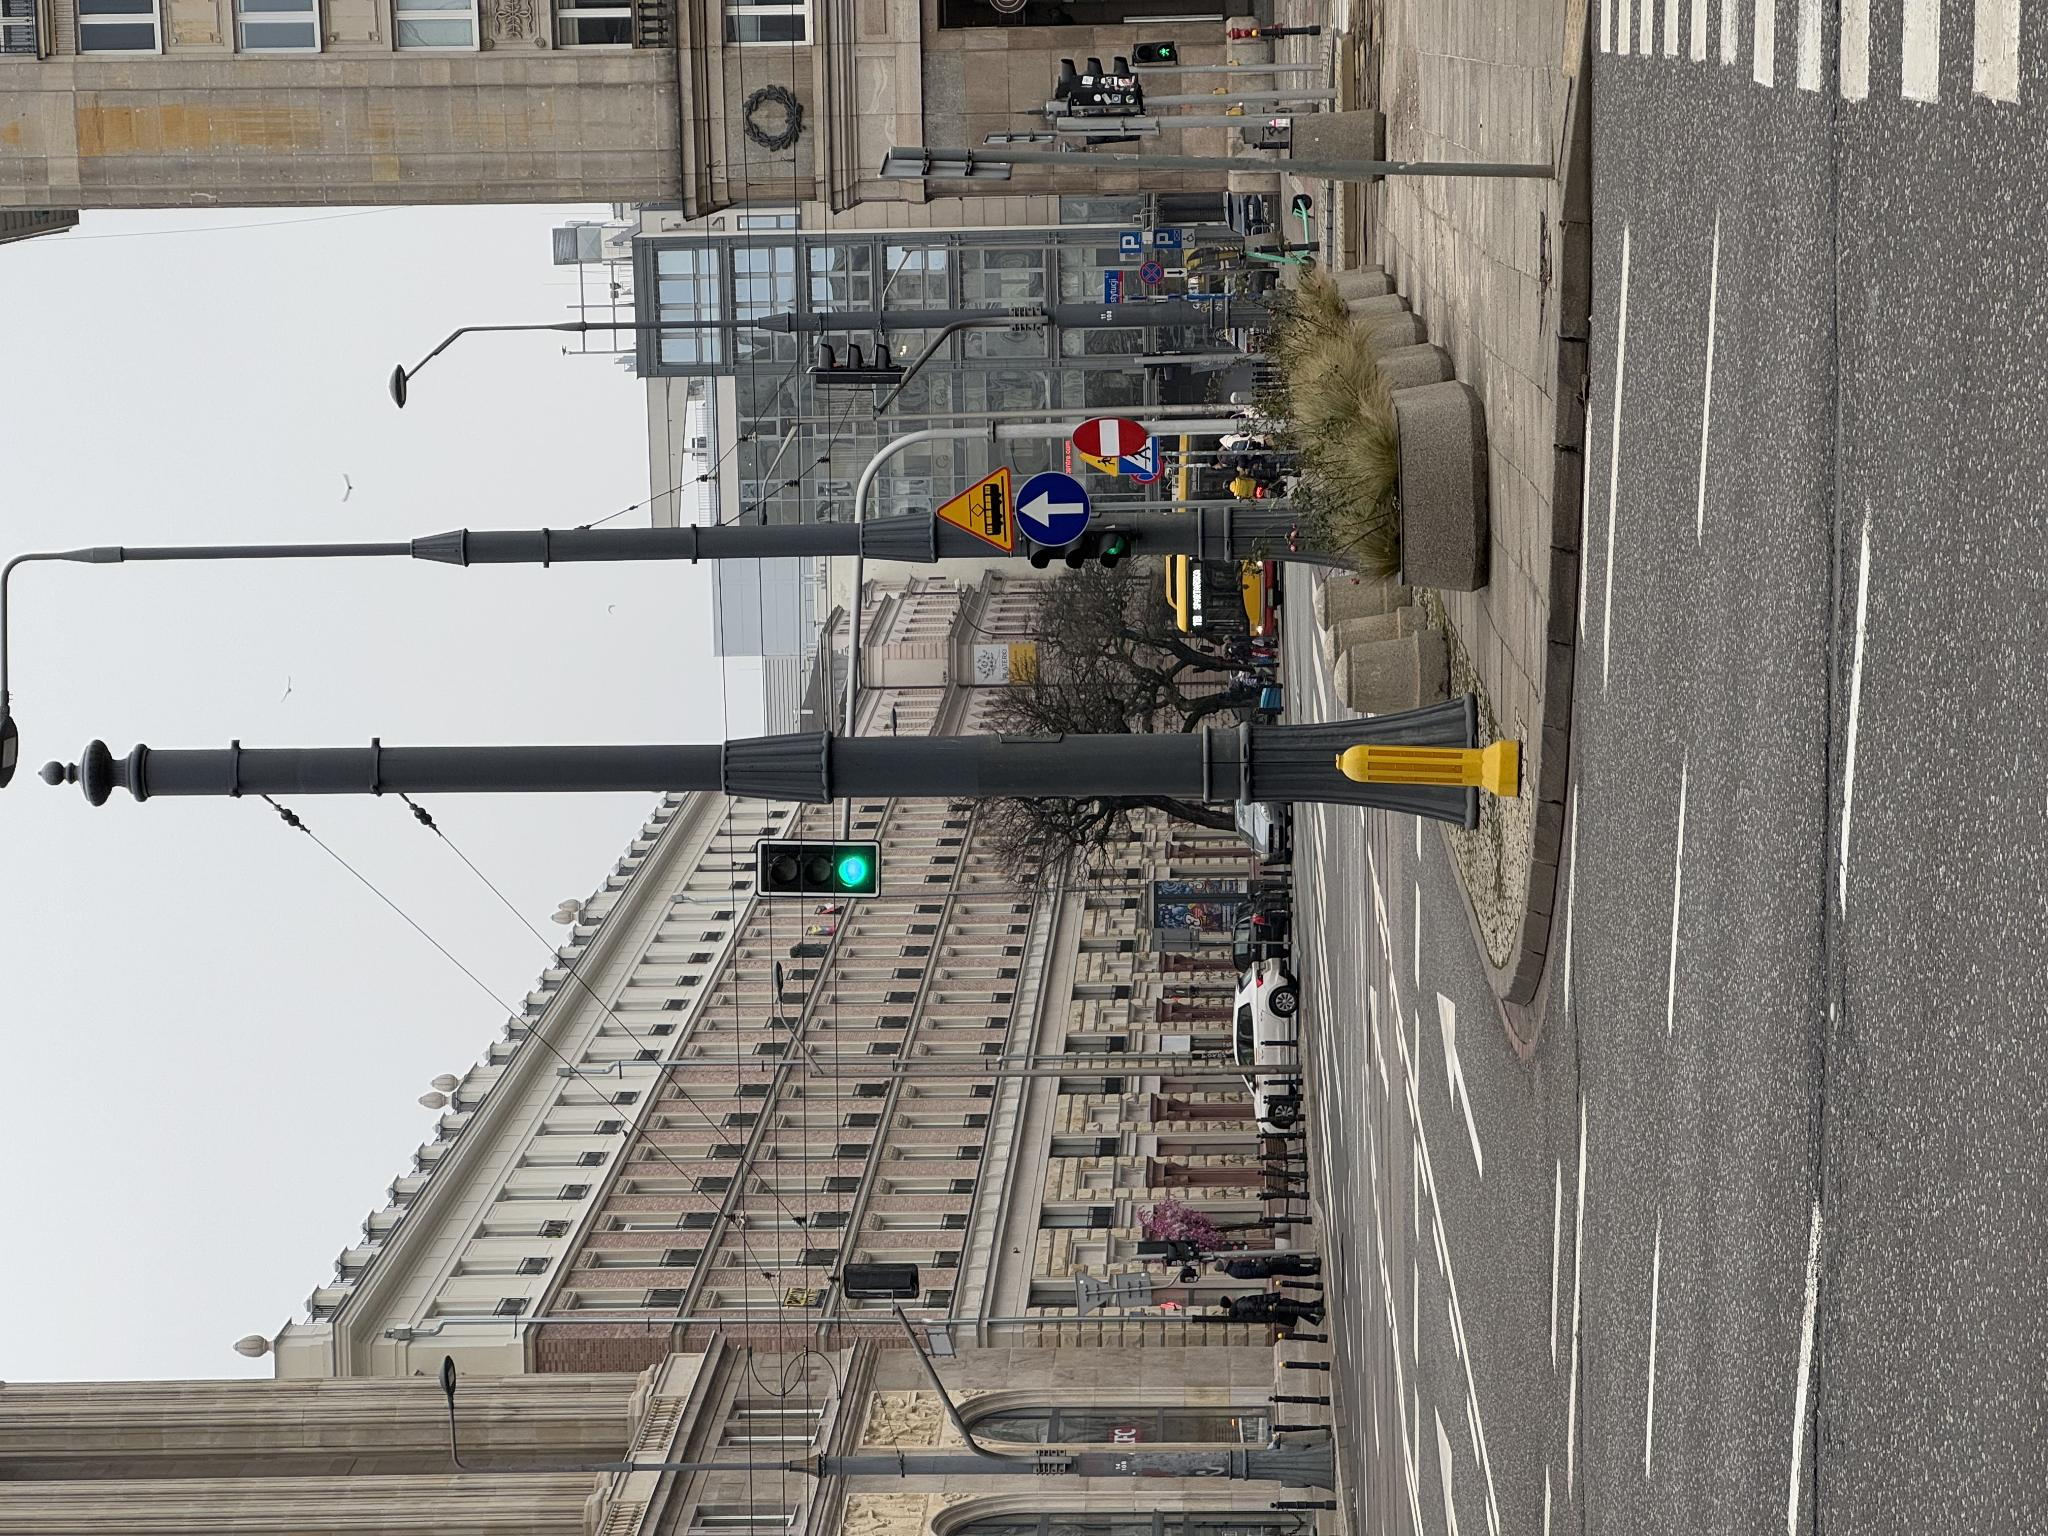information: (1063, 1120, 1100, 1158), (1287, 1154, 1309, 1183), (1282, 1120, 1305, 1141)
mandatory: (990, 1015, 1066, 1091)
other: (1259, 1165, 1269, 1187)
prohibitory: (1079, 1071, 1119, 1149), (1251, 1141, 1276, 1163), (1051, 1129, 1063, 1160)
warning: (984, 936, 1072, 1016), (1059, 1079, 1085, 1118)
